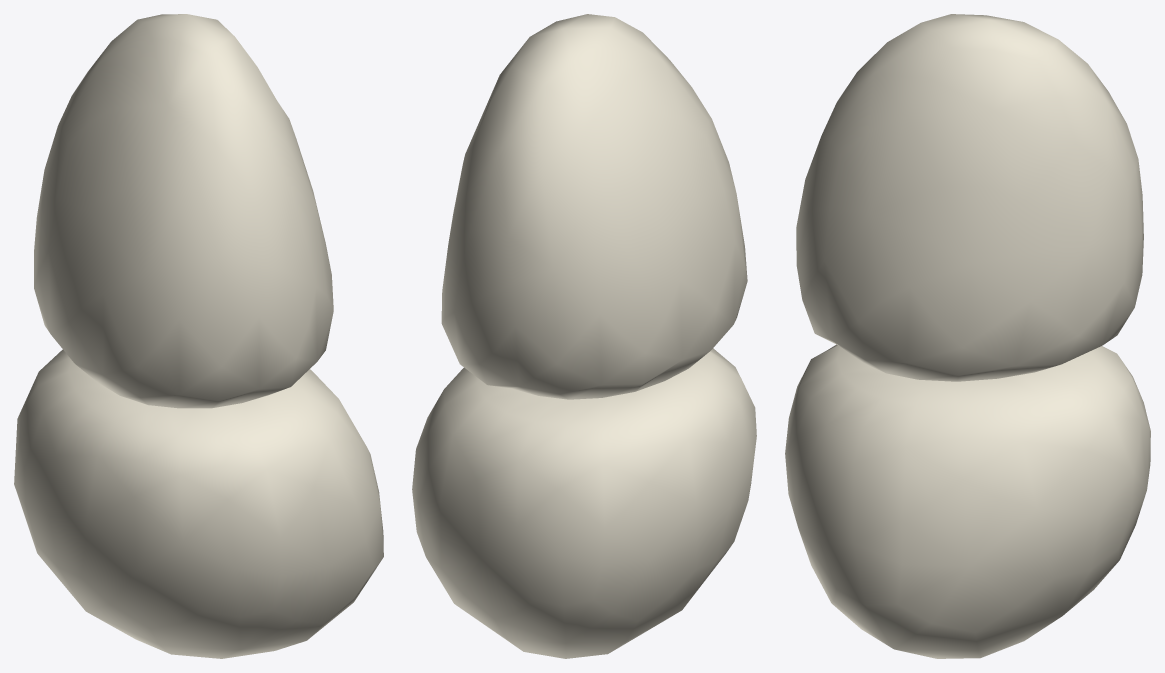
3 renders of one model, left to right at view 1: azimuth 30°, elevation 25°; view 2: azimuth 150°, elevation 25°; view 3: azimuth 270°, elevation 25°, orthographic.
Parts seen in each view (by area): view 1: ZA_afe74781d77a9e79; view 2: ZA_afe74781d77a9e79; view 3: ZA_afe74781d77a9e79.
Boxes of the visible parts, <box> form: ZA_afe74781d77a9e79: <box>14,14,383,658</box>; ZA_afe74781d77a9e79: <box>412,14,756,658</box>; ZA_afe74781d77a9e79: <box>785,14,1150,658</box>.
Size of the model in its own units: 0.00719 by 0.0142 by 0.00766.
